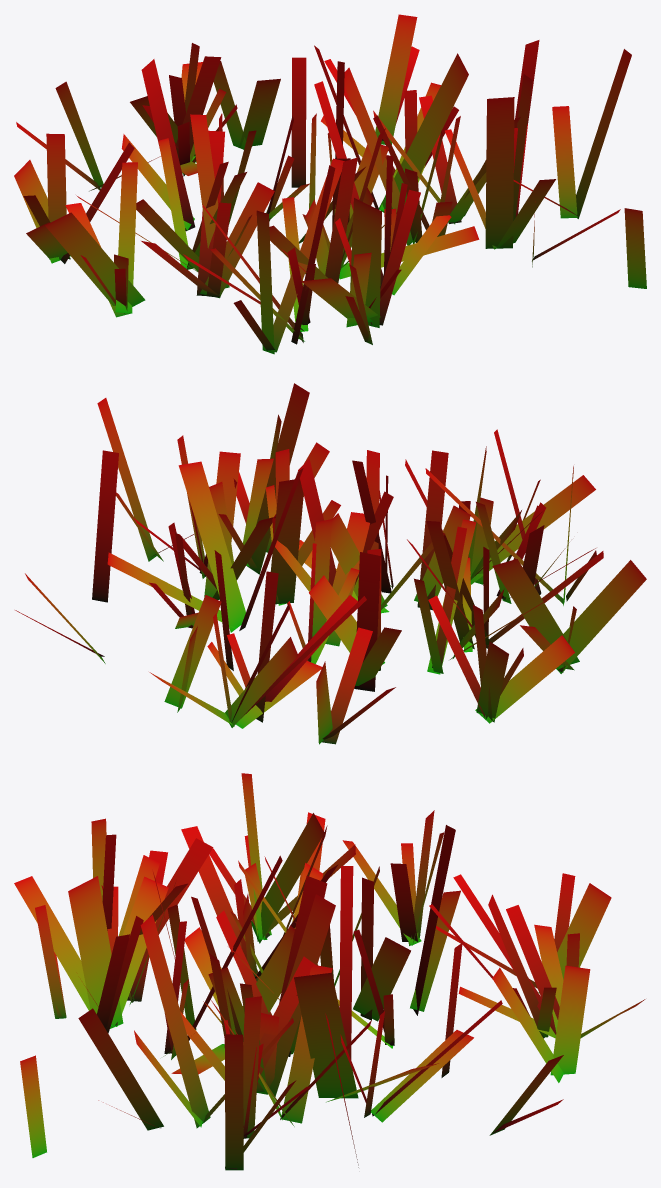
File: Grass Clumps_LOD2_Var2_qmBr2.fbx
3 renders of one model, top to bottom at view 1: azimuth 30°, elevation 25°; view 2: azimuth 150°, elevation 25°; view 3: azimuth 270°, elevation 25°, orthographic. The views are drawn at different scales.
Parts seen in each view (by area): view 1: _b2ca_Var2_LOD2; view 2: _b2ca_Var2_LOD2; view 3: _b2ca_Var2_LOD2.
Boxes of the visible parts, x1,y1,x2,y2 form: _b2ca_Var2_LOD2: [14, 14, 646, 354]; _b2ca_Var2_LOD2: [15, 383, 646, 744]; _b2ca_Var2_LOD2: [14, 773, 645, 1170].
Bounding box in the file's own units: 75.29 × 23.13 × 66.44.
